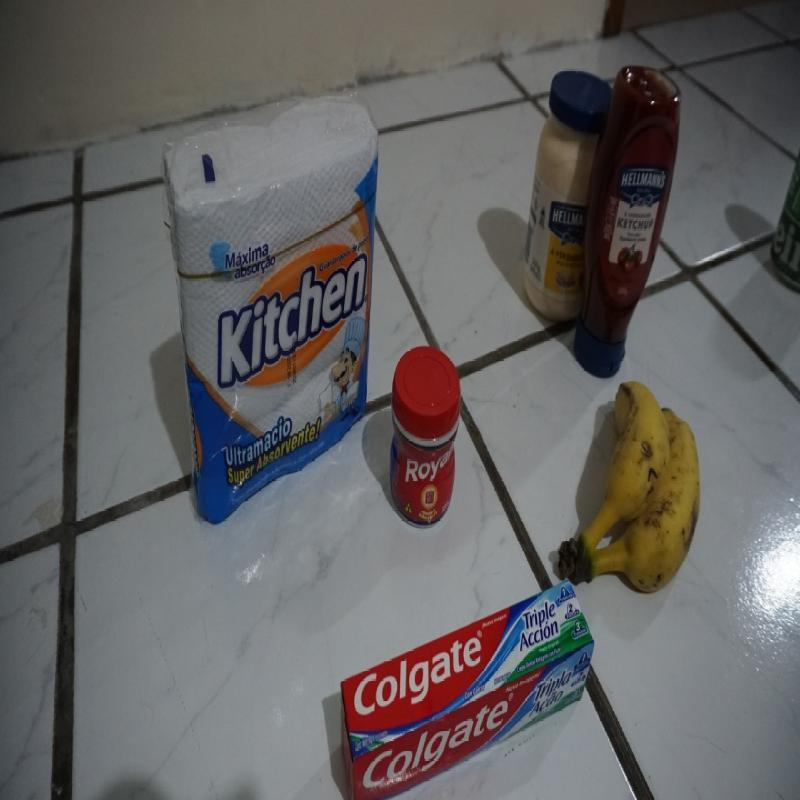Banana: (564, 380, 714, 590)
Beer can: (772, 162, 798, 294)
Ketchup: (591, 62, 679, 371)
Mayonnaise: (526, 66, 586, 322)
Napkin: (162, 96, 372, 512)
Toothpaste: (344, 582, 594, 796)
Yeast: (385, 343, 460, 518)
